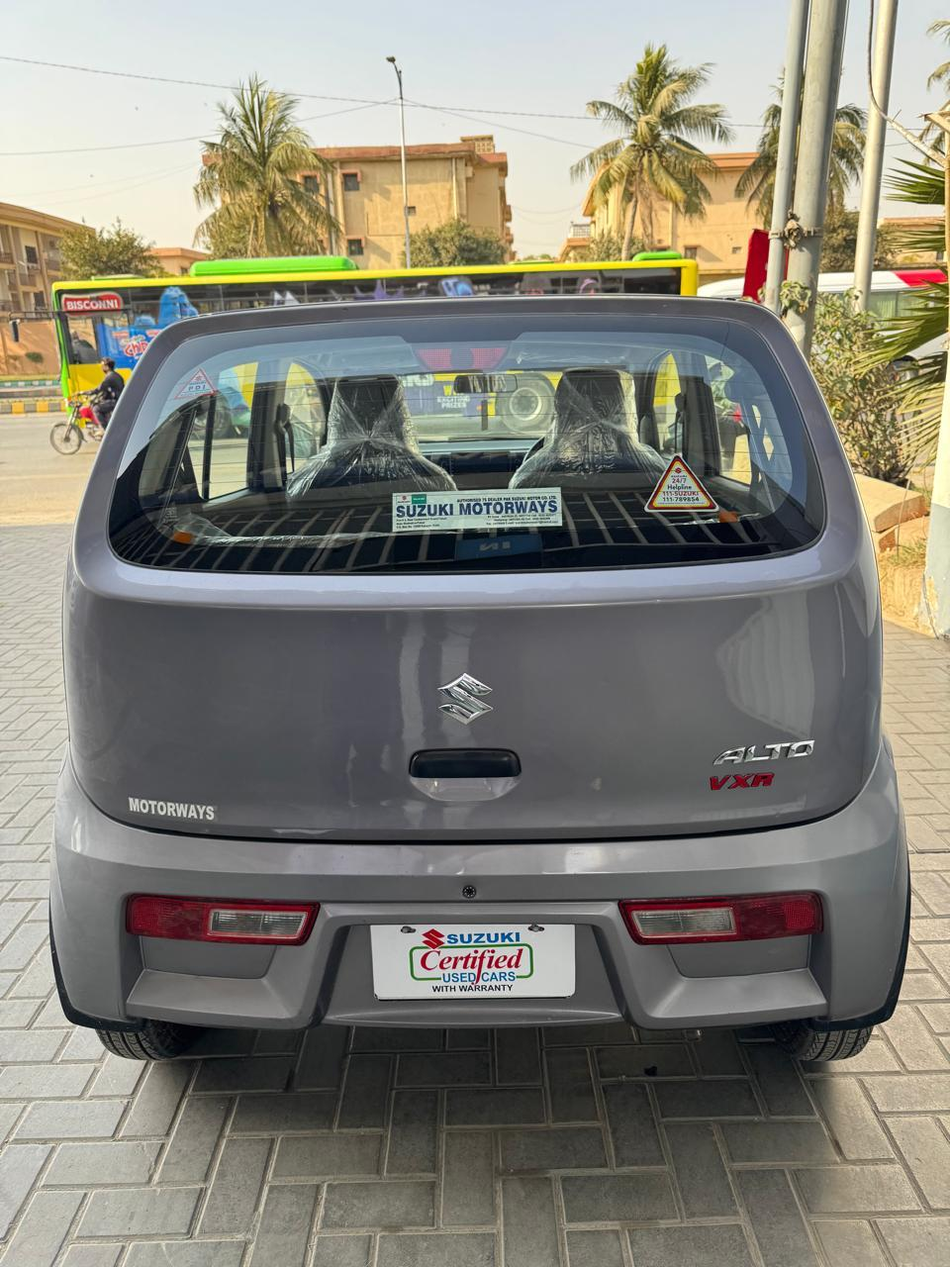Hatchback: (59, 221, 917, 1132)
